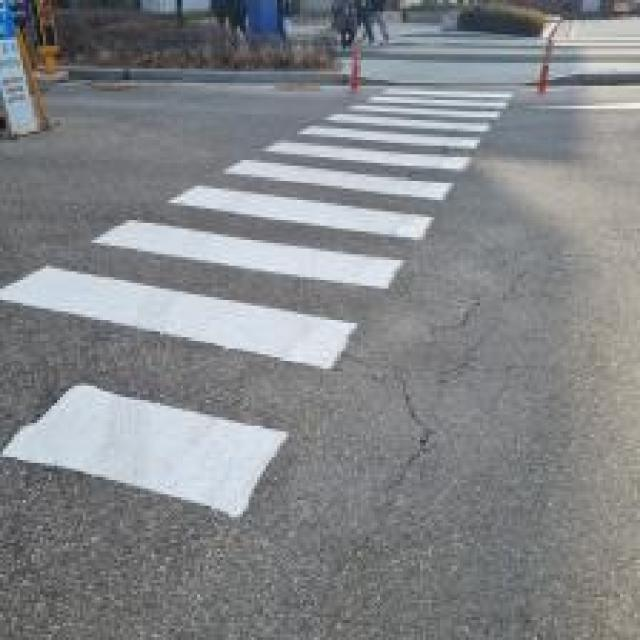zebra: (215, 79, 514, 562)
